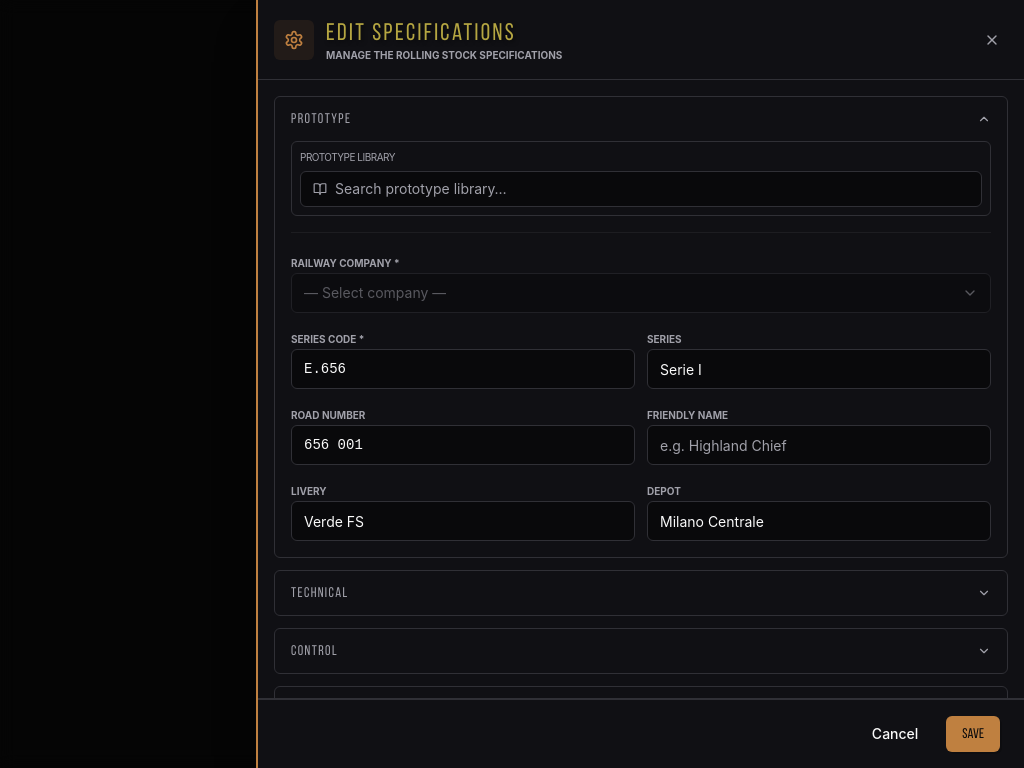
Test: RollingStockSpecsDrawer › FR-027: Dirty-check confirmation dialog › does not close and hides dialog when user cancels the discard
Replace the text in the field showing "E.656" with "E.646": [463, 369] box [291,349,635,389]
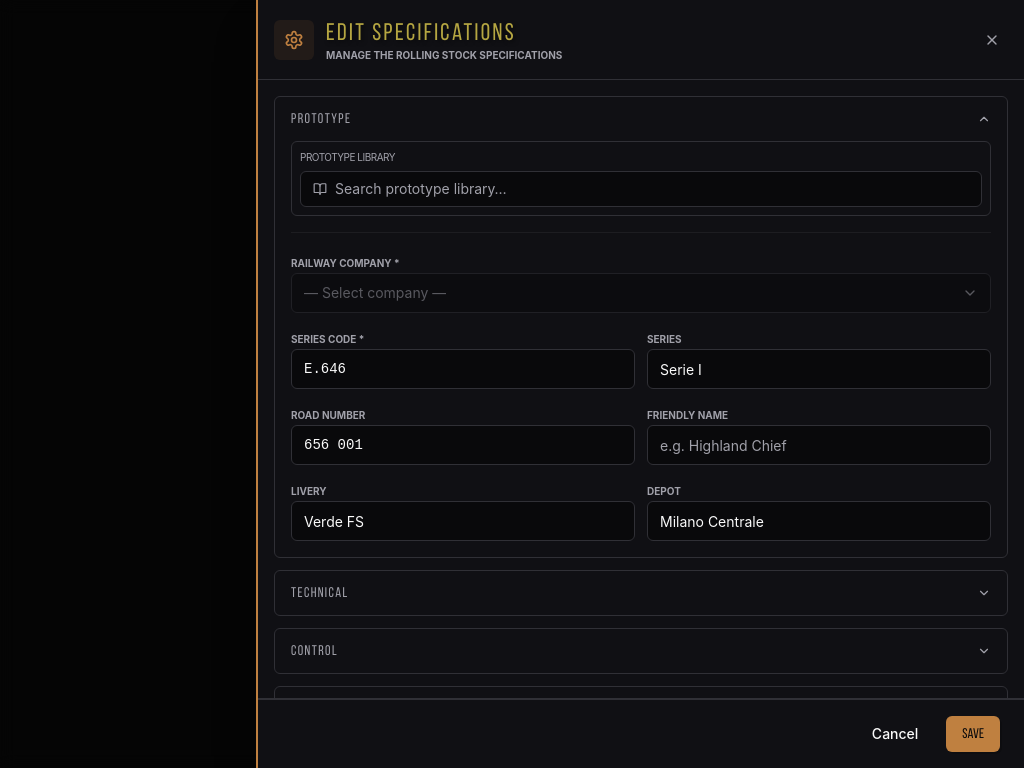
Click the button named "close": [992, 40] box [976,24,1008,56]
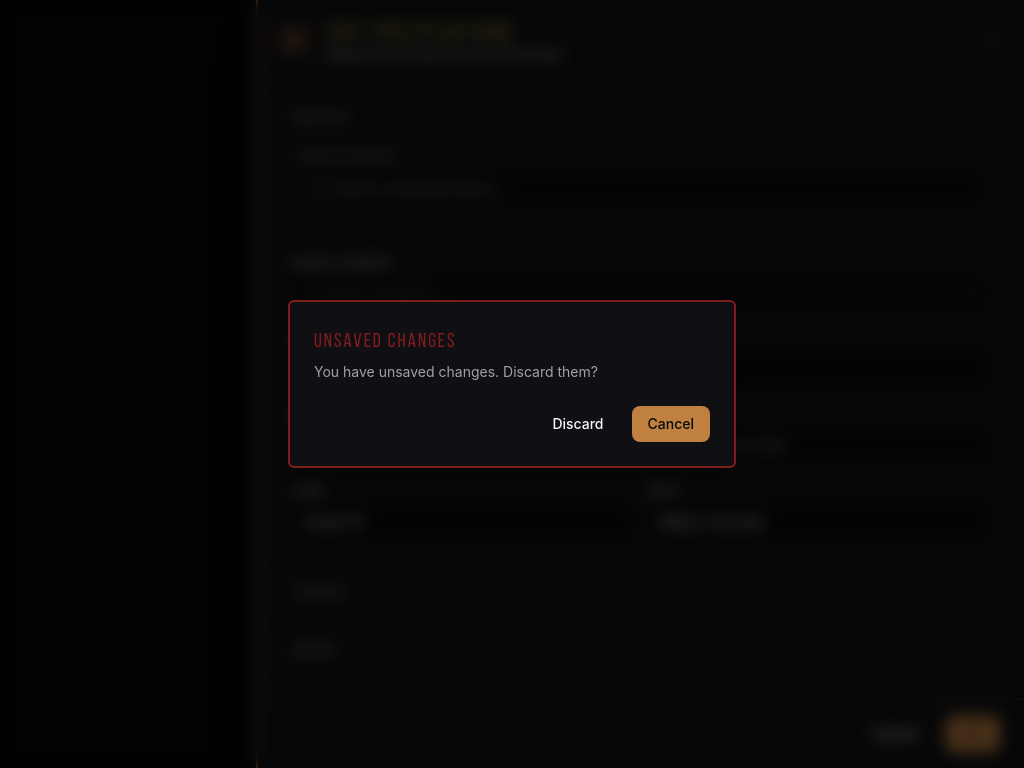
Expected: the heading "Unsaved Changes" is shown, [314,329,456,351]
Note: The last Cancel button belongs to the confirmation dialog
Click the button "Cancel": [671, 424] box [632,406,710,442]
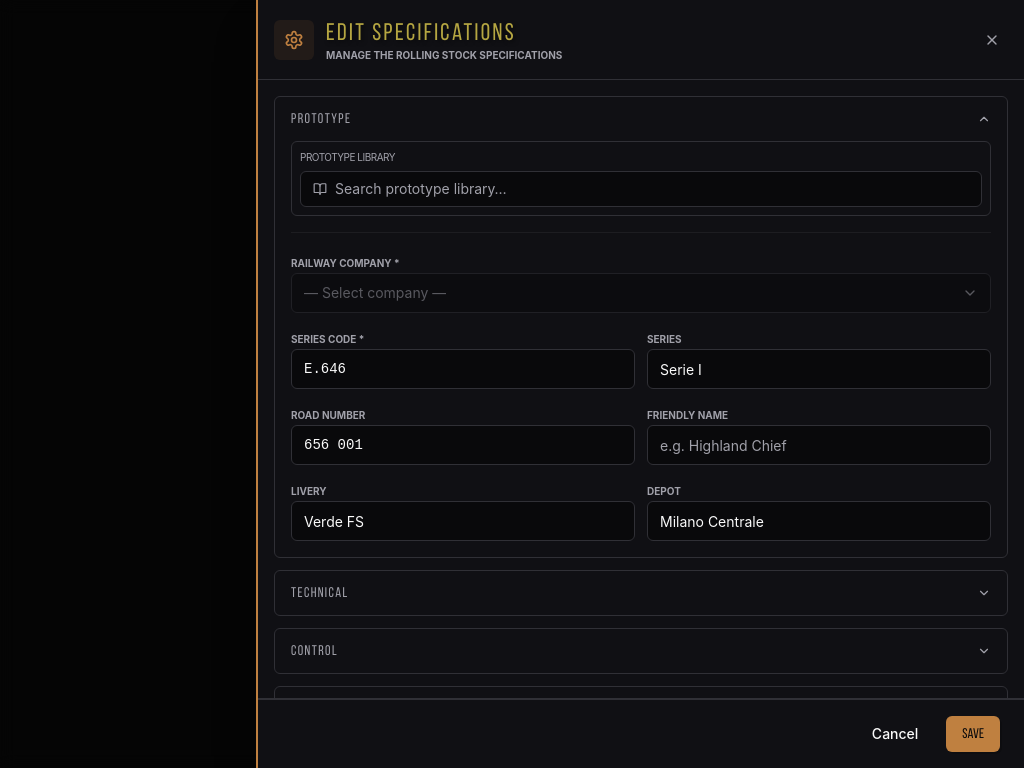
Expected: the text "Unsaved Changes" is gone
